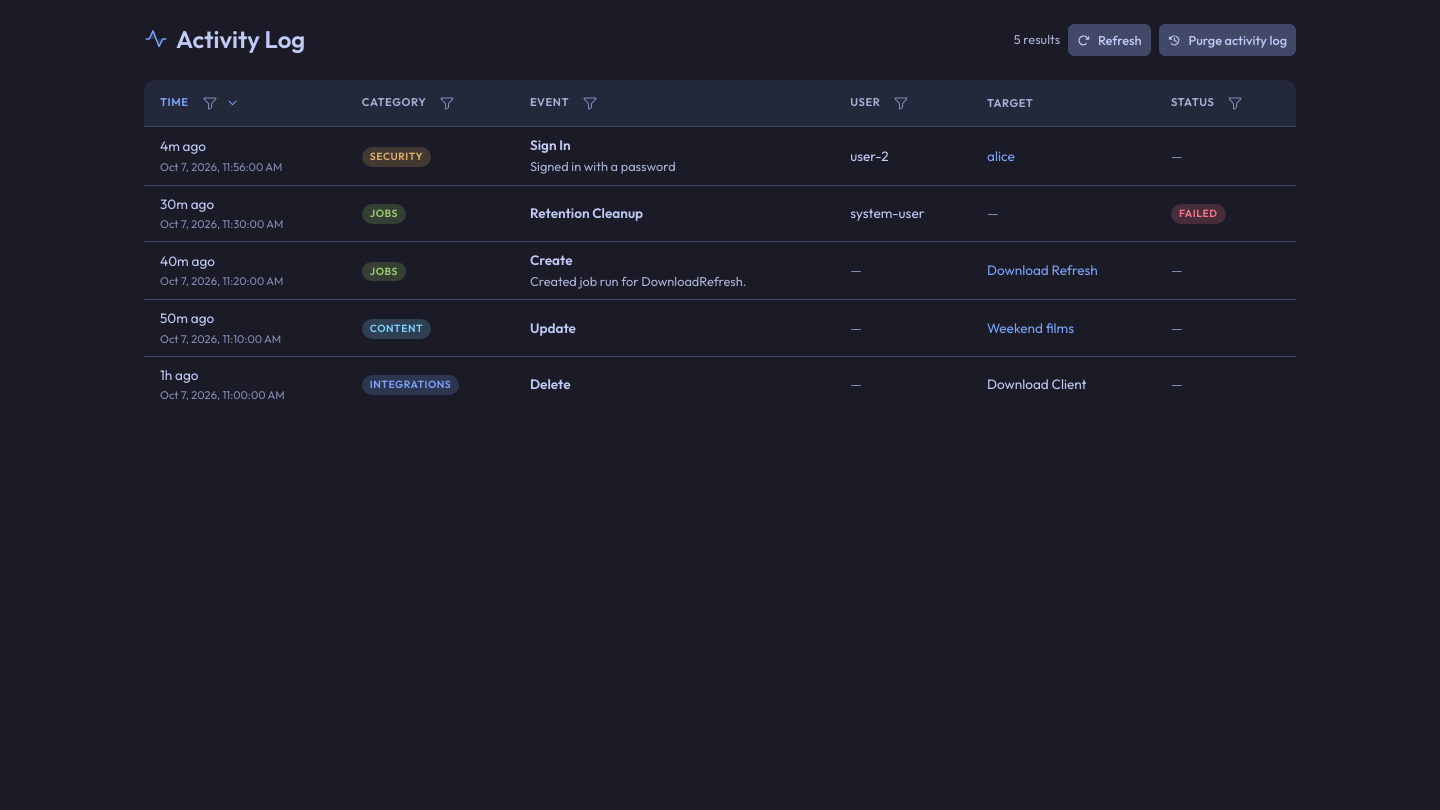
ActivityLogPage › PurgeDialog_ShowsTheScheduleRetention_WhenTheScheduleIs false {}
Click the button "Purge activity log" at (1227, 40), box [1159,24,1296,56]
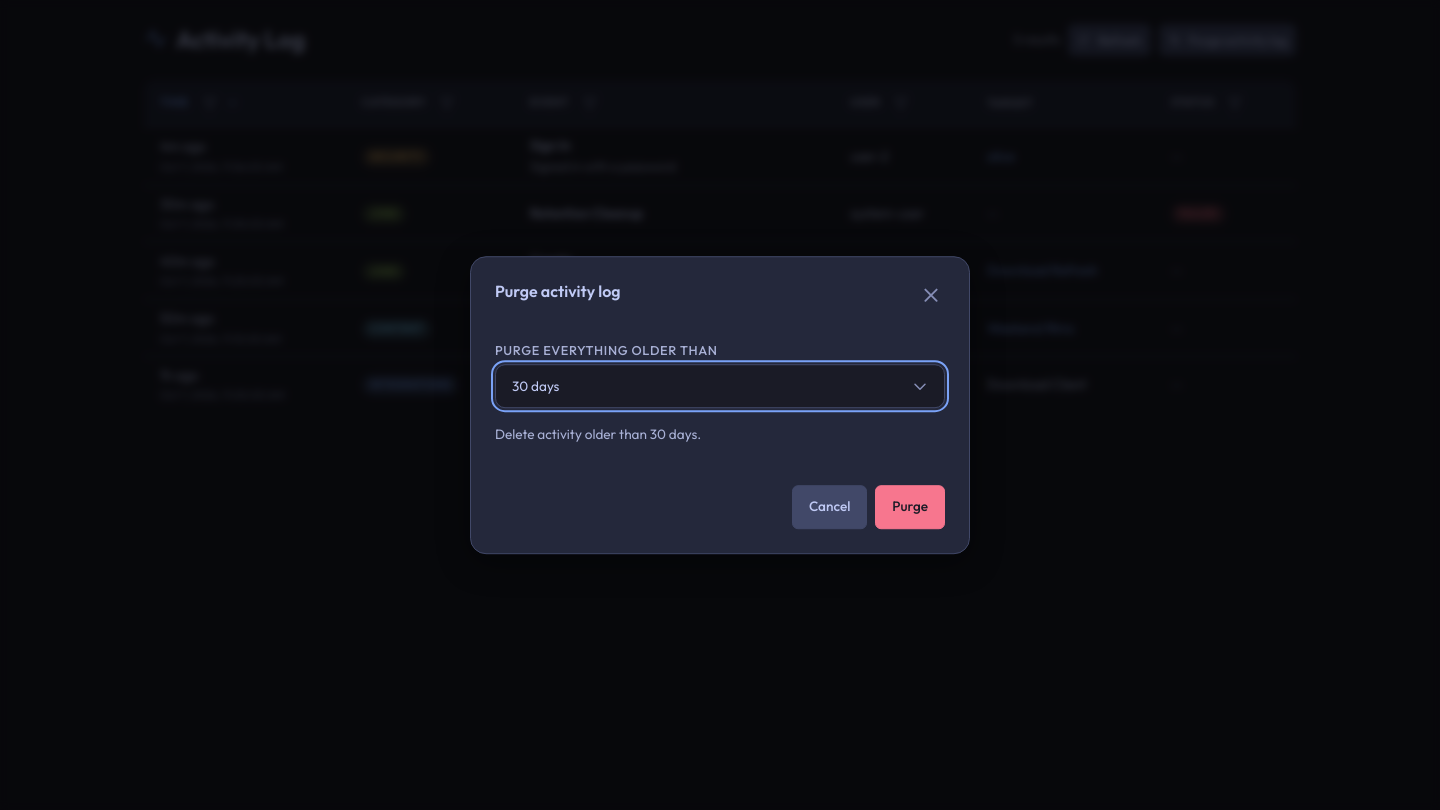
Result: the text "Delete activity older than 30 days." is shown at [495,425,701,443]
Result: the button "Purge" is shown at [875,485,945,529]
